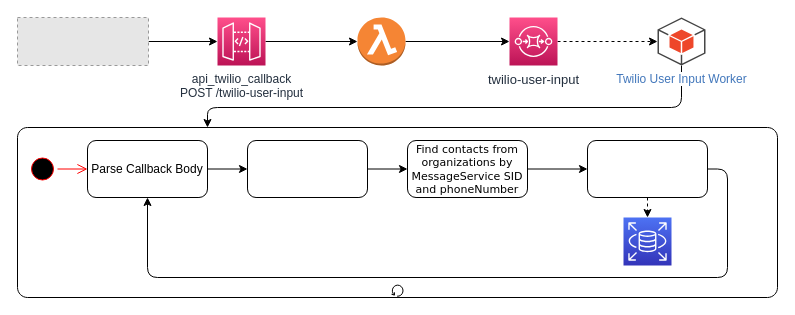
The diagram is 795 pixels wide and 315 high, and some of its shapes have lost their labels. Grey dashed boxes stand in for pictures. Here are the shapes that lost their labels. From the top down, the centre of each, then its label:
At point 381,41: "twilio-callback".
At point 307,169: "Get OptOut keyword from Message Body".
At point 647,169: "Update Contact subscription status Active/Unsubscribed".
